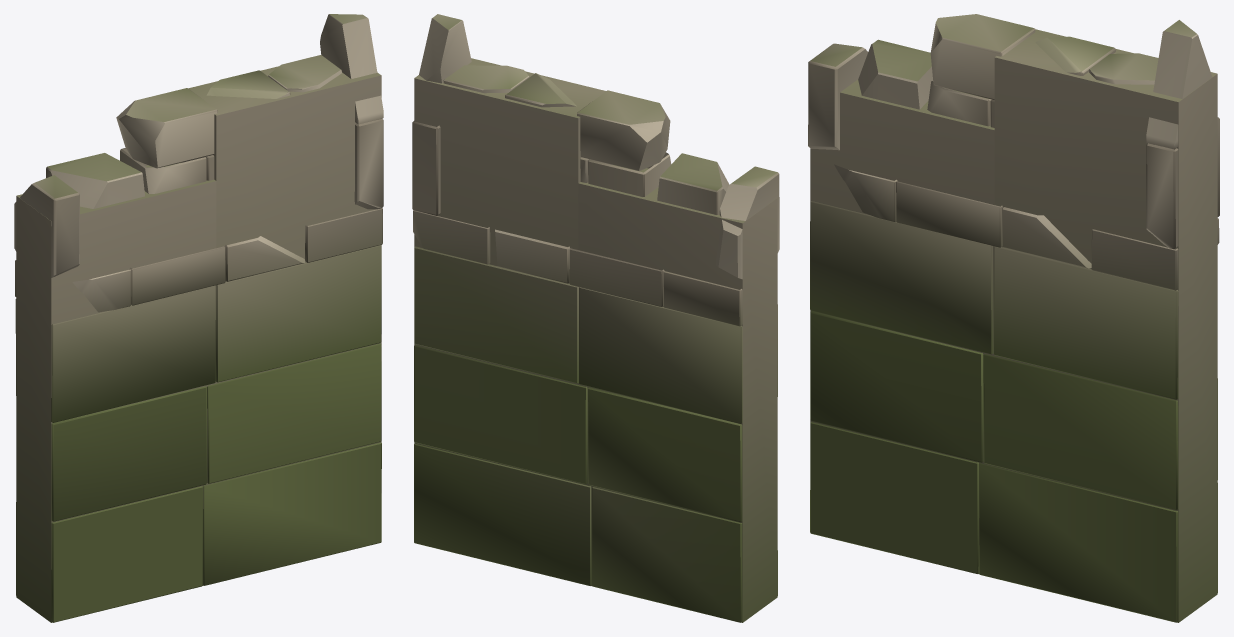
Rendered from sanctuary_wall_stump.glb.
3 views of the same model, side by side, from view 1: azimuth 30°, elevation 25°; view 2: azimuth 150°, elevation 25°; view 3: azimuth 330°, elevation 25° (orthographic). The views are drawn at different scales.
Parts seen in each view (by area): view 1: sanctuary_wall_stump, sanctuary_wall_stump_far; view 2: sanctuary_wall_stump, sanctuary_wall_stump_far; view 3: sanctuary_wall_stump, sanctuary_wall_stump_far.
Boxes of the visible parts, box(x1,y1,x2,y2) form: sanctuary_wall_stump: box(14, 14, 383, 622); sanctuary_wall_stump_far: box(16, 66, 381, 622); sanctuary_wall_stump: box(412, 14, 779, 622); sanctuary_wall_stump_far: box(414, 58, 777, 622); sanctuary_wall_stump: box(808, 14, 1219, 622); sanctuary_wall_stump_far: box(810, 29, 1217, 622).
Size of the model in its own units: 18.5 by 27.6 by 4.02.
